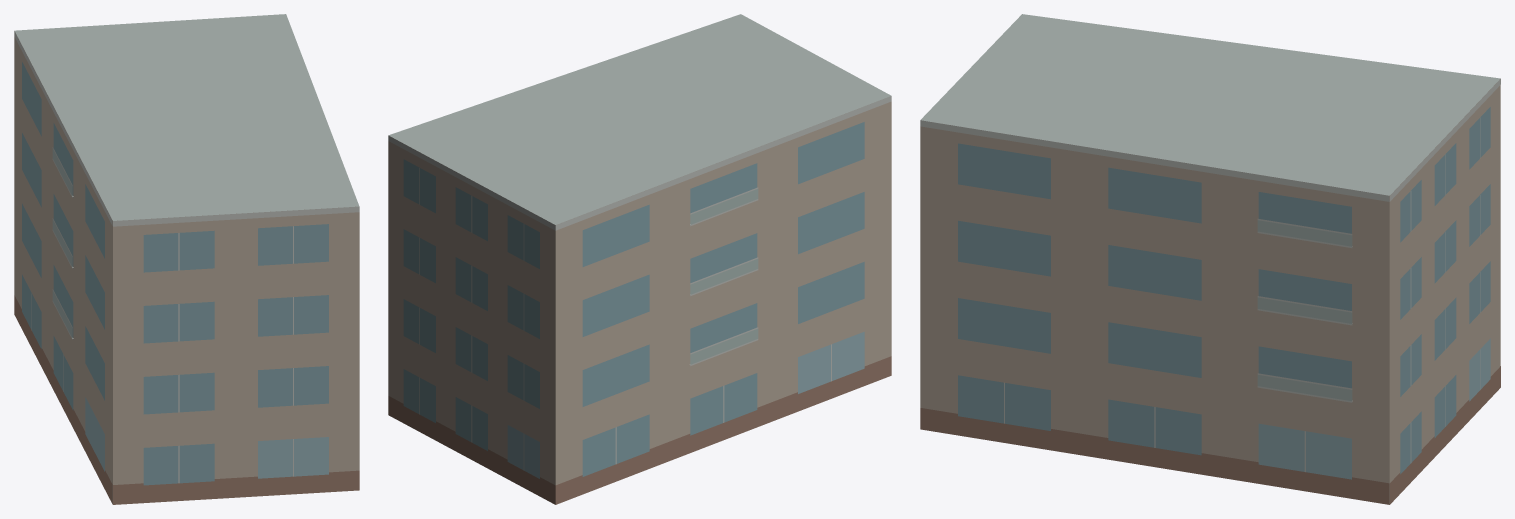
File: survey-upis-32526410.glb
3 renders of one model, left to right at view 1: azimuth 30°, elevation 25°; view 2: azimuth 150°, elevation 25°; view 3: azimuth 270°, elevation 25°, orthographic. The views are drawn at different scales.
Visible parts, largest first — view 1: survey-upis-32526410.tmp; view 2: survey-upis-32526410.tmp; view 3: survey-upis-32526410.tmp.
Boxes of the visible parts, <box> form: survey-upis-32526410.tmp: <box>14,14,359,504</box>; survey-upis-32526410.tmp: <box>388,14,891,504</box>; survey-upis-32526410.tmp: <box>920,14,1500,504</box>.
Bounding box in the file's own units: 15.39 × 12.2 × 20.78.
